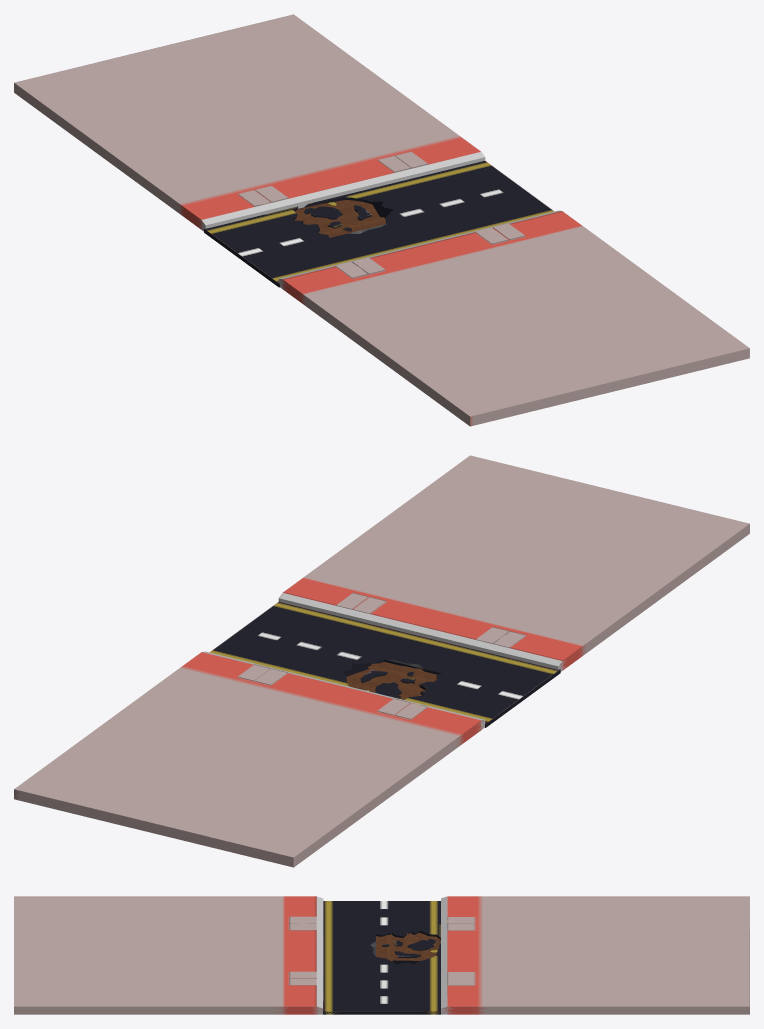
File: CITY ROAD WITH Crack.fbx
3 renders of one model, top to bottom at view 1: azimuth 30°, elevation 25°; view 2: azimuth 150°, elevation 25°; view 3: azimuth 270°, elevation 25°, orthographic. The views are drawn at different scales.
Visible parts, largest first — view 1: Cube; view 2: Cube; view 3: Cube.
Boxes of the visible parts, box(x1,y1,x2,y2) form: Cube: box(14, 14, 749, 426); Cube: box(14, 455, 749, 867); Cube: box(14, 896, 749, 1014).
Bounding box in the file's own units: 1681 × 60.75 × 4731.
Materials: 1 (1 with a texture image).
